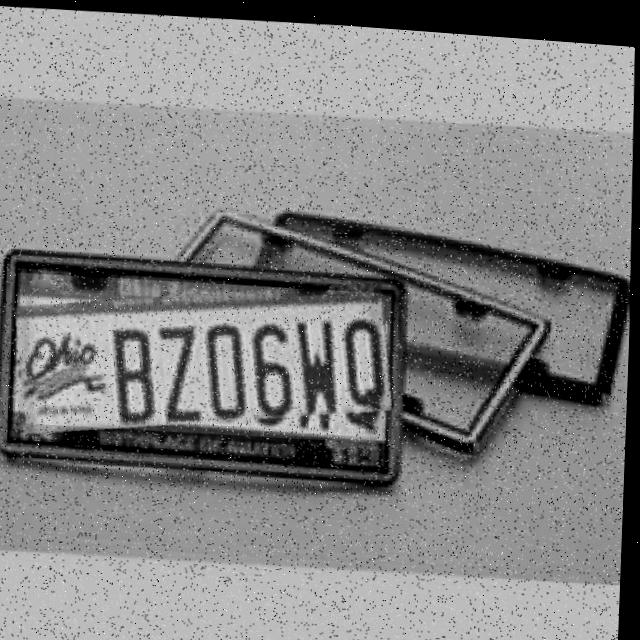LicensePlate: (15, 265, 397, 444)
